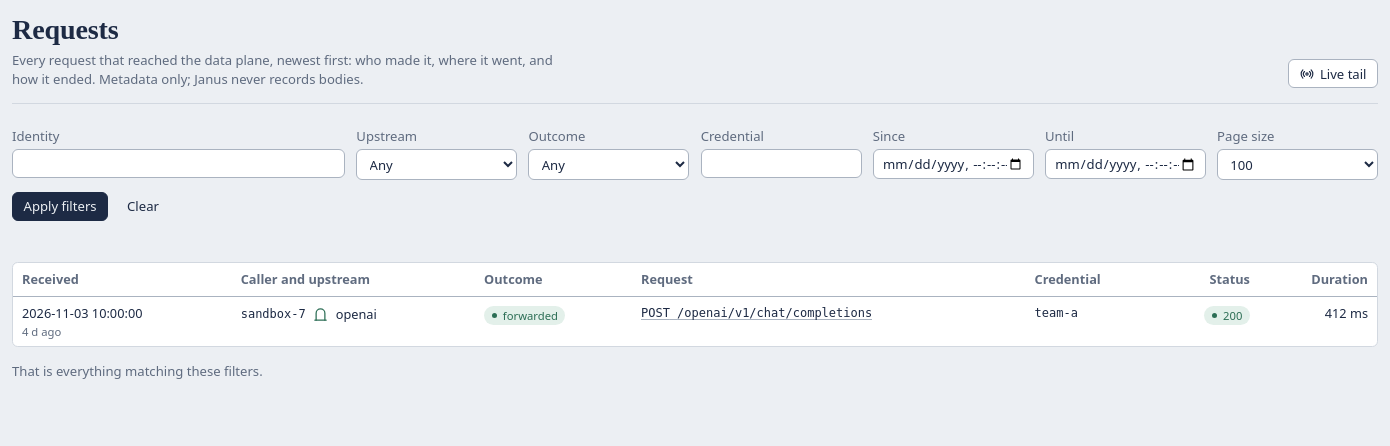
it: Requests view › backfills after a reconnect, once the new stream has pinged
Expected: the table named "Request log" is shown, 13,263 -> 1377,346
Click the button "Live tail".
click(1333, 74)  # box 1288,59 -> 1378,88
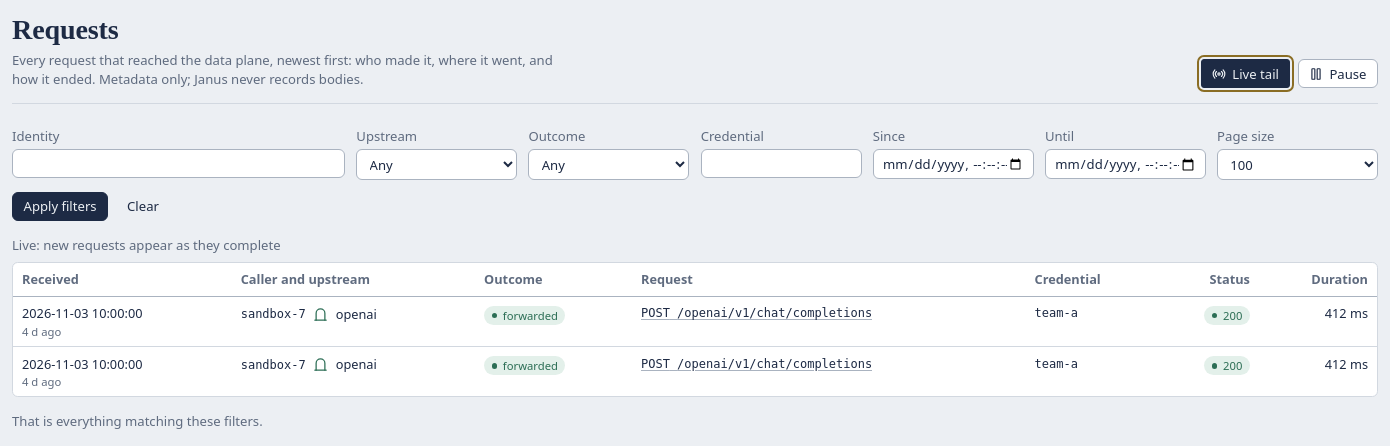
Expected: the text "Connection lost" is shown, 12,236 -> 281,254
